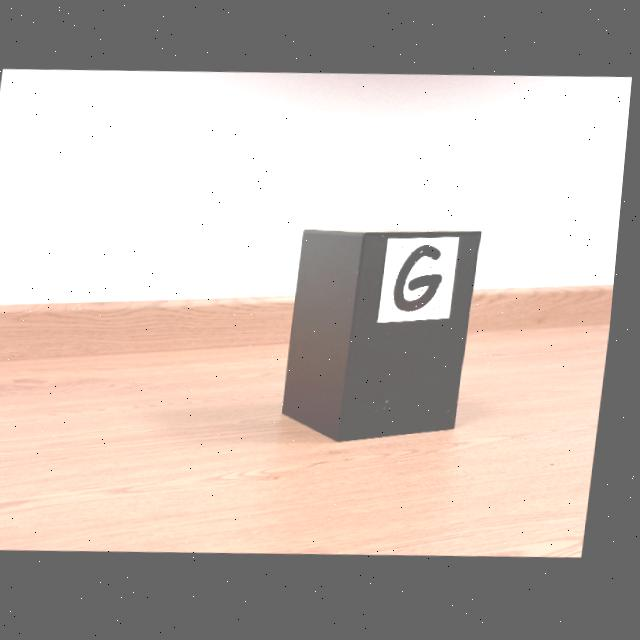G: (399, 247, 448, 313)
